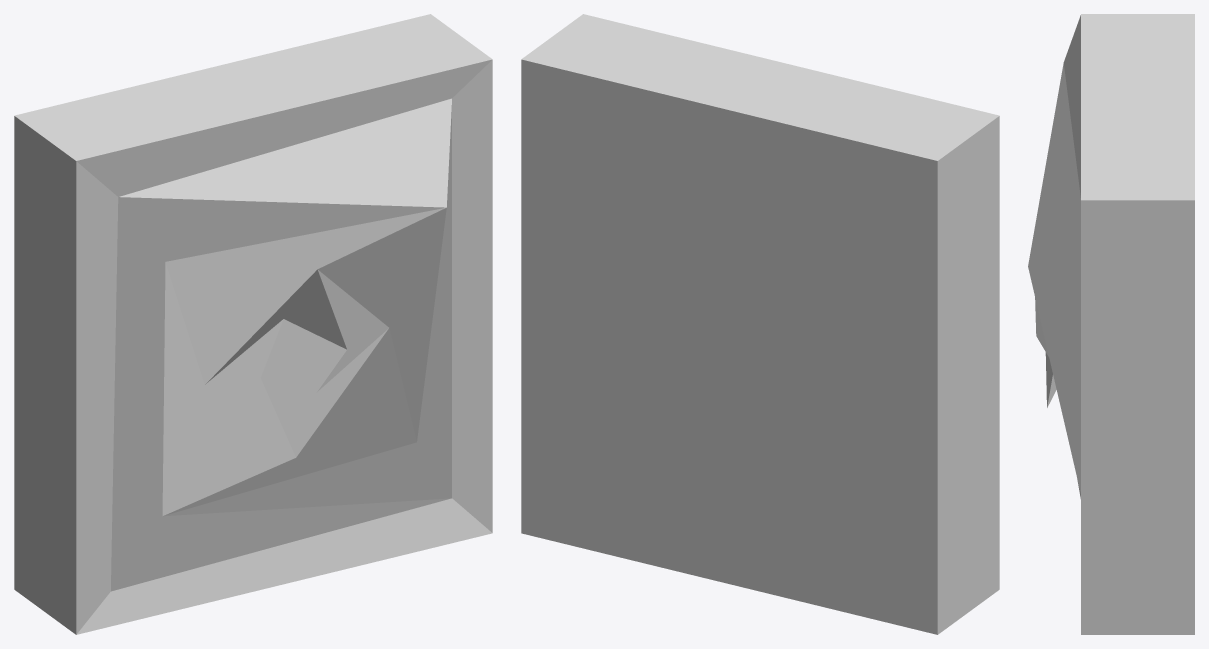
The model's file is PORTA COM TEXTURE.fbx.
3 renders of one model, left to right at view 1: azimuth 30°, elevation 25°; view 2: azimuth 150°, elevation 25°; view 3: azimuth 270°, elevation 25°, orthographic. The views are drawn at different scales.
Parts seen in each view (by area): view 1: Cube.005; view 2: Cube.005; view 3: Cube.005.
Part boxes in pixels (<box>): Cube.005: <box>14,14,492,634</box>; Cube.005: <box>521,14,999,634</box>; Cube.005: <box>1028,14,1194,634</box>.
Bounding box in the file's own units: 219 × 238 × 82.88.
1 material, 1 textured.
